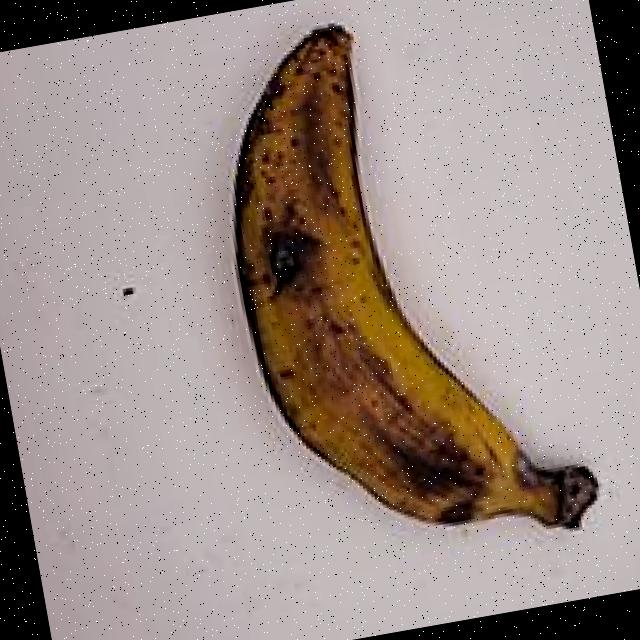Overripe: (143, 0, 640, 623)
